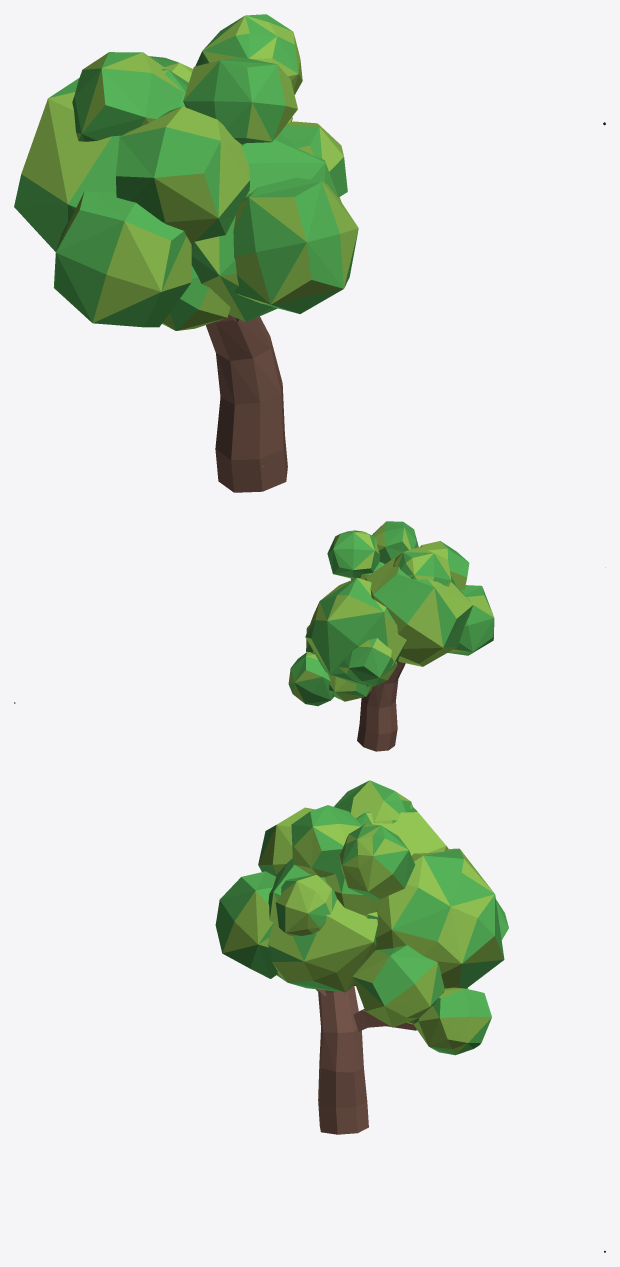
3 views of the same model, one above another, from view 1: azimuth 30°, elevation 25°; view 2: azimuth 150°, elevation 25°; view 3: azimuth 270°, elevation 25° (orthographic). The views are drawn at different scales.
Visible parts, largest first — view 1: group539138307, group1601322353, group782635127, group1557629805, group96954322, group2125587565, group1314246316, group1964877045, group2020670456, group1020061806, group431212935; view 2: group96954322, group859060583, group1557629805, group2020670456, group417261304, group539138307, group1710688740, group2125587565, group1314246316, group782635127, group1118385008; view 3: group859060583, group1964877045, group1557629805, group797343918, group1601322353, group2020670456, group1710688740, group1314246316, group431212935, group2125587565, group96954322, group782635127 (+1 smaller).
Boxes of the visible parts, left/top/right/bottom form: group539138307: left=53, top=191, right=191, bottom=327; group1601322353: left=233, top=177, right=358, bottom=313; group782635127: left=115, top=106, right=249, bottom=247; group1557629805: left=206, top=315, right=287, bottom=492; group96954322: left=14, top=68, right=188, bottom=251; group2125587565: left=72, top=52, right=183, bottom=141; group1314246316: left=183, top=57, right=297, bottom=144; group1964877045: left=191, top=133, right=341, bottom=322; group2020670456: left=195, top=14, right=302, bottom=94; group1020061806: left=162, top=265, right=230, bottom=330; group431212935: left=280, top=121, right=347, bottom=197; group96954322: left=365, top=551, right=473, bottom=666; group859060583: left=305, top=578, right=406, bottom=687; group1557629805: left=357, top=661, right=405, bottom=751; group2020670456: left=327, top=530, right=380, bottom=578; group417261304: left=339, top=638, right=397, bottom=686; group539138307: left=448, top=585, right=494, bottom=655; group1710688740: left=288, top=652, right=334, bottom=706; group2125587565: left=393, top=547, right=451, bottom=586; group1314246316: left=372, top=521, right=418, bottom=563; group782635127: left=420, top=541, right=469, bottom=589; group1118385008: left=327, top=673, right=373, bottom=701; group859060583: left=374, top=848, right=504, bottom=988; group1964877045: left=267, top=858, right=377, bottom=992; group1557629805: left=316, top=986, right=416, bottom=1134; group797343918: left=352, top=945, right=444, bottom=1027; group1601322353: left=215, top=871, right=277, bottom=978; group2020670456: left=339, top=823, right=415, bottom=899; group1710688740: left=413, top=987, right=491, bottom=1055; group1314246316: left=291, top=805, right=361, bottom=877; group431212935: left=275, top=875, right=336, bottom=935; group2125587565: left=334, top=780, right=412, bottom=823; group96954322: left=356, top=807, right=448, bottom=855; group782635127: left=258, top=807, right=314, bottom=875.
Size of the model in its own units: 1.38 by 0.7598 by 1.31.
